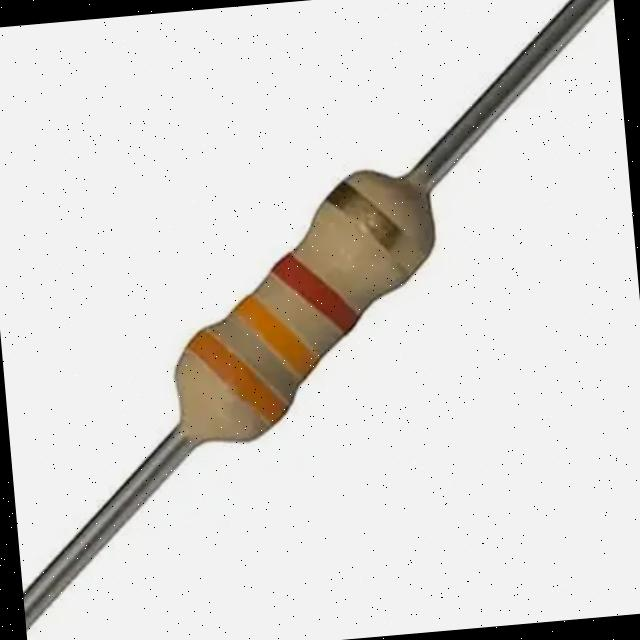brown: (269, 252, 362, 336)
gold: (324, 178, 426, 279)
orange: (186, 328, 291, 426), (230, 294, 320, 380)
resistor: (126, 139, 474, 497)
